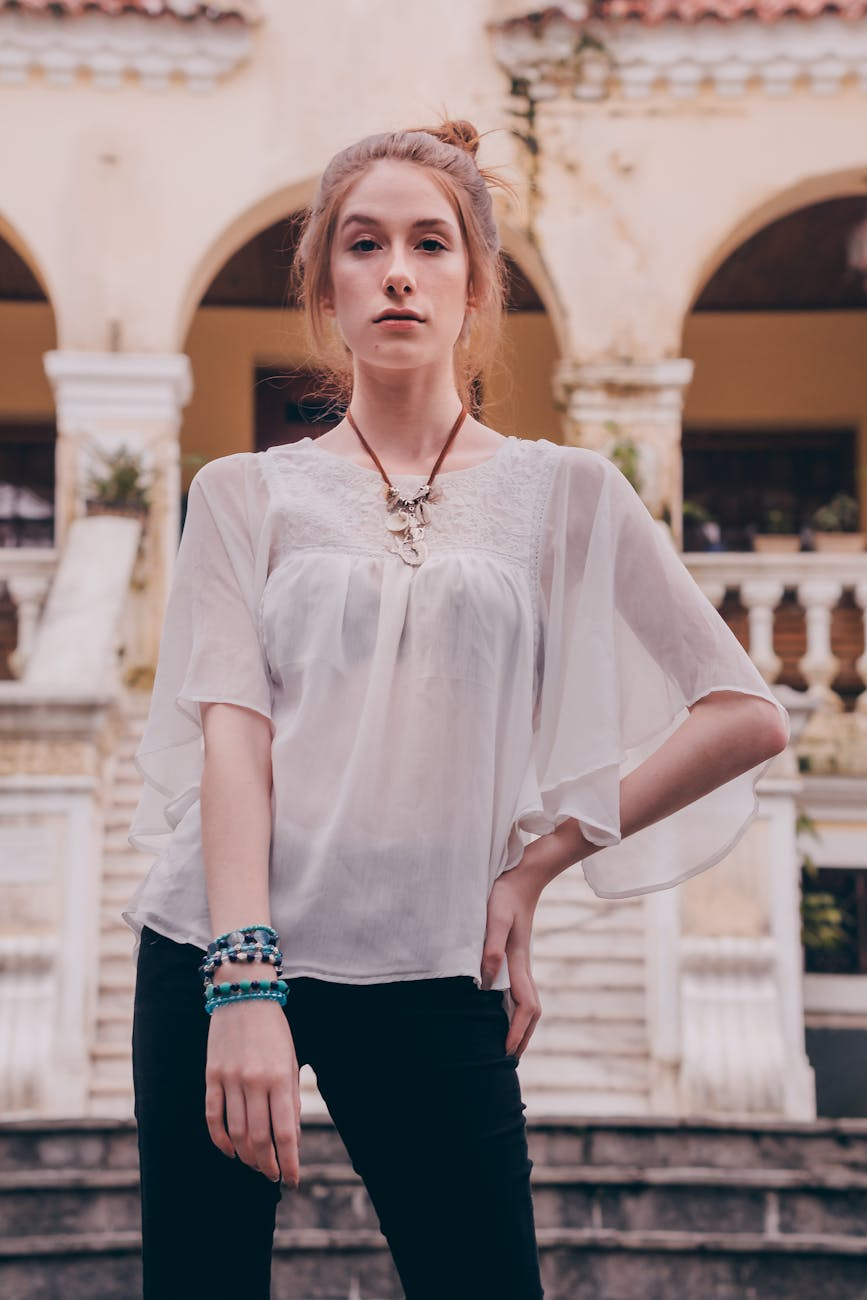transparent_top: (180, 431, 626, 888)
